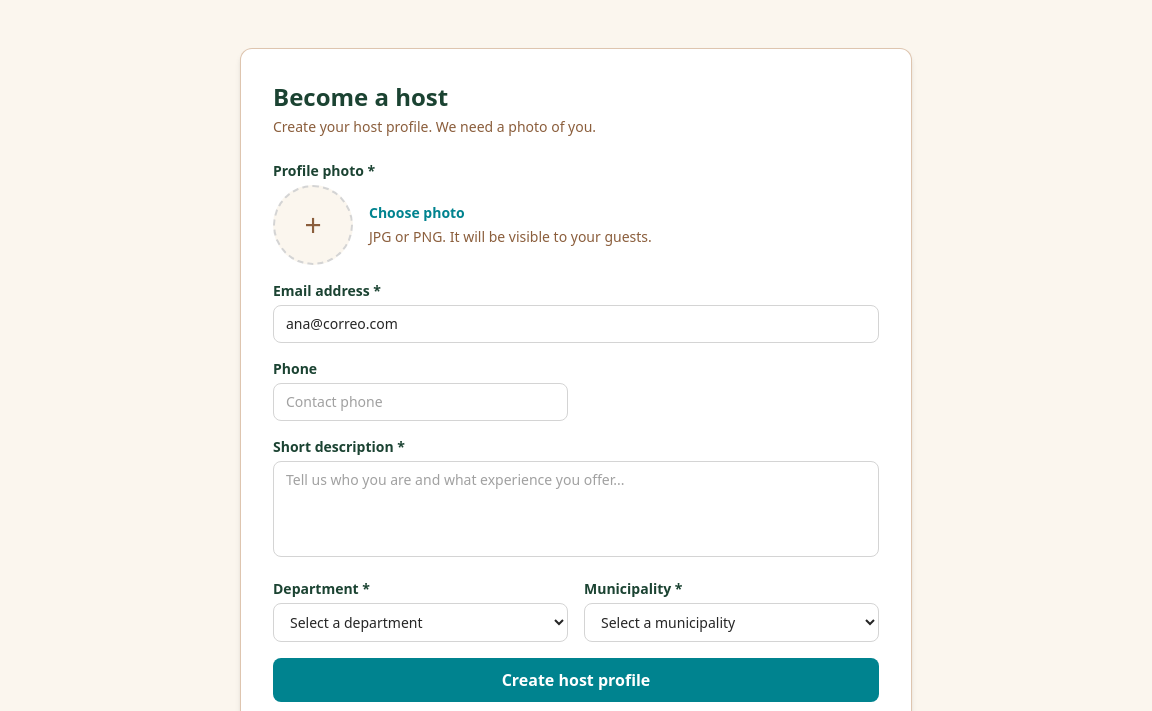
Scenario: EN active: host-signup chrome comes from the publicacion namespace › shows the localized frontend validation copy on submit without a photo
Step 1. Click the button "Create host profile" → (576, 680), box [273,658,879,702]
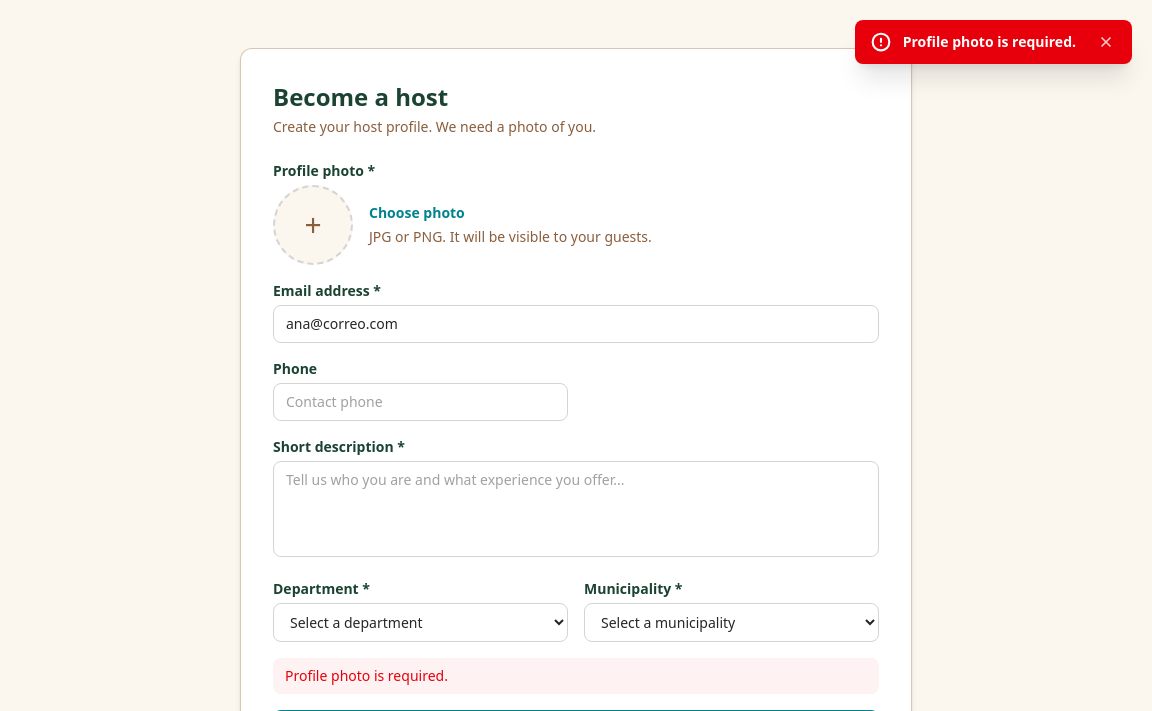
Expected: the text "Profile photo is required." is shown 2 times, [273,658,879,694]; [903,32,1076,52]
